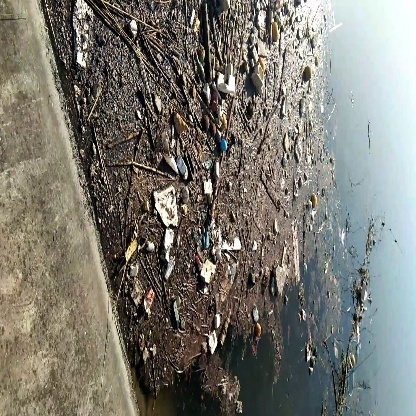branch: (197, 4, 216, 85)
